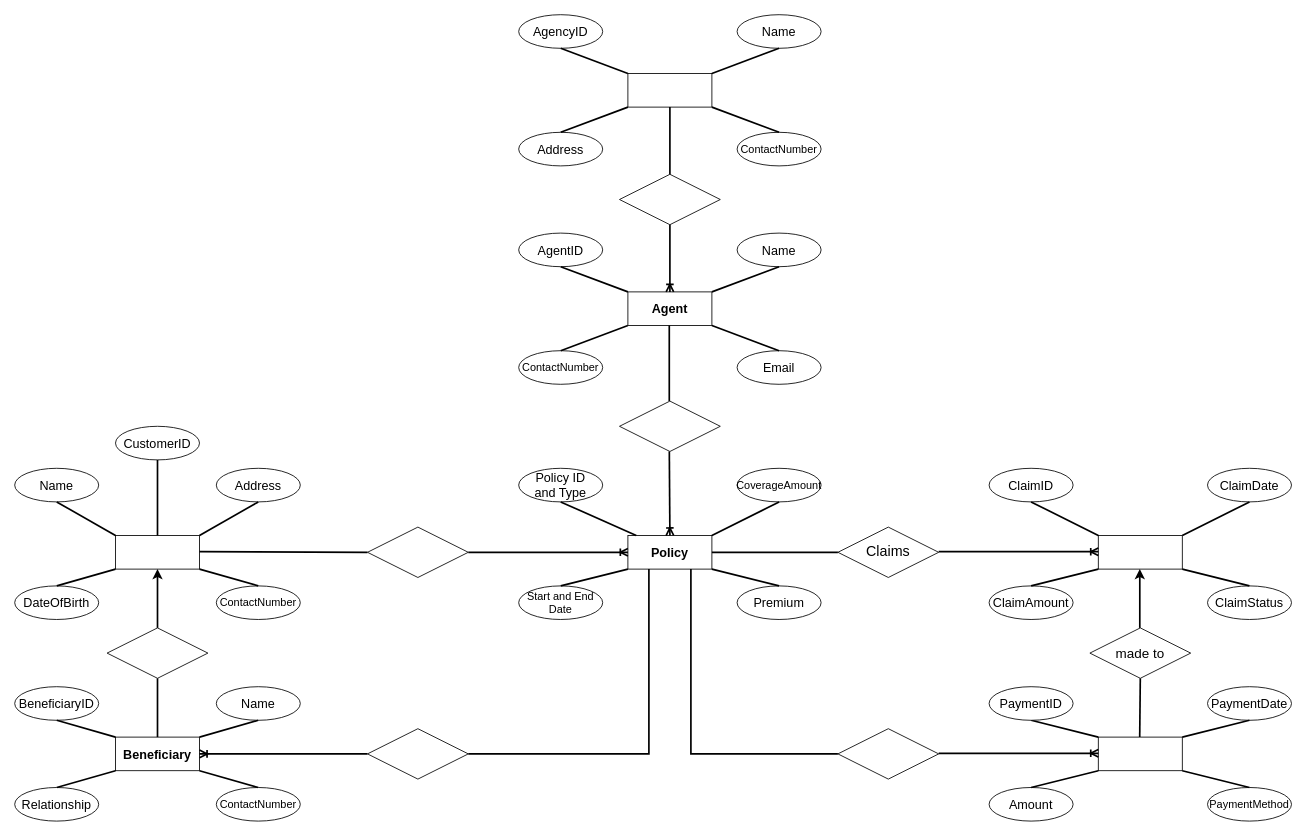
The diagram is 1306 pixels wide and 836 high, and some of its shapes have lost their labels. The centre of each missing label's shape, as x and y in pixels:
"Agency" belongs at point (669, 90).
"Belongs" belongs at point (669, 199).
"Beneficiaries" belongs at point (417, 753).
"Benefits" belongs at point (157, 652).
"Claim" belongs at point (1139, 552).
"Customer" belongs at point (157, 552).
"Handles" belongs at point (669, 426).
"Payment" belongs at point (1139, 753).
"Payments" belongs at point (888, 753).
"Policies" belongs at point (417, 552).
